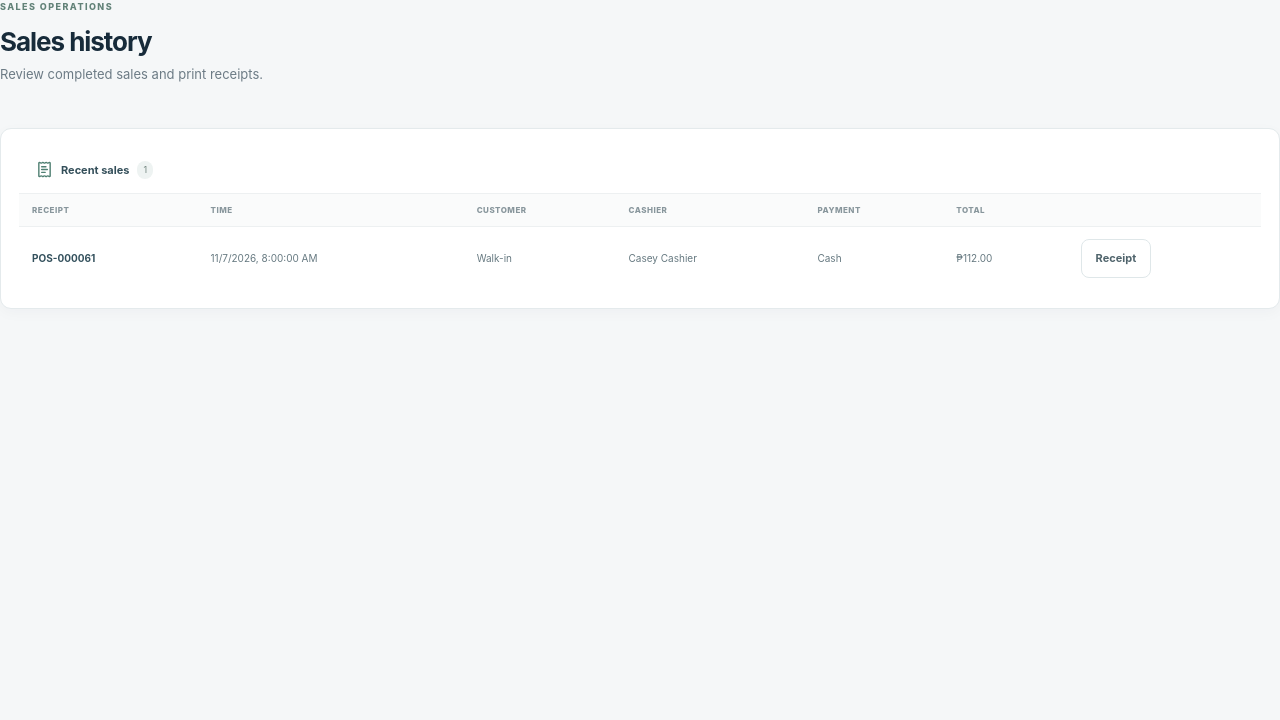
Scenario: Point of sale page › shows accountants sale history and receipts without checkout controls
Expected: the heading "Sales history" is shown, [0,26,152,56]
Expected: the text "POS-000061" is shown, [32,252,95,264]
Click the button "Receipt".
click(1116, 258)  # box [1081,238,1151,278]
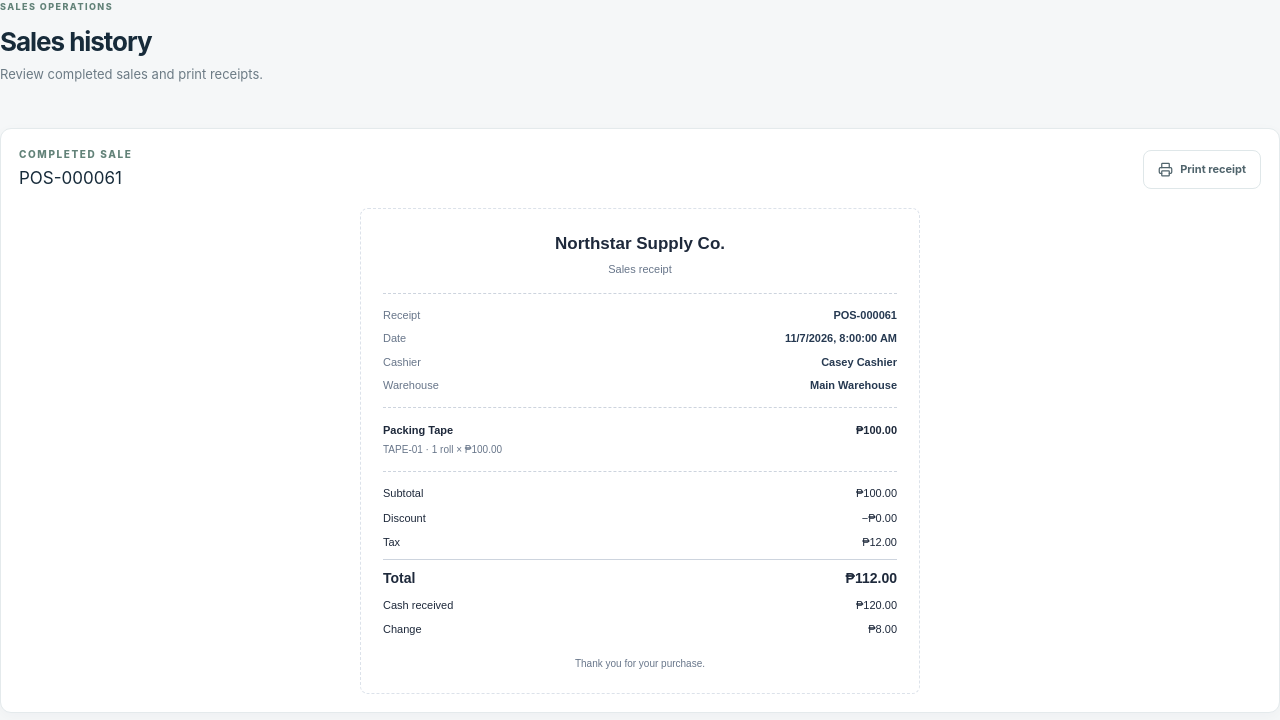
Expected: the text "Thank you for your purchase." is shown, [575,658,705,668]
